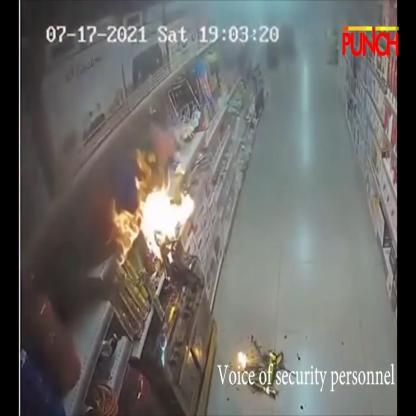fire: (111, 149, 157, 265), (142, 184, 193, 254), (238, 351, 247, 370)
